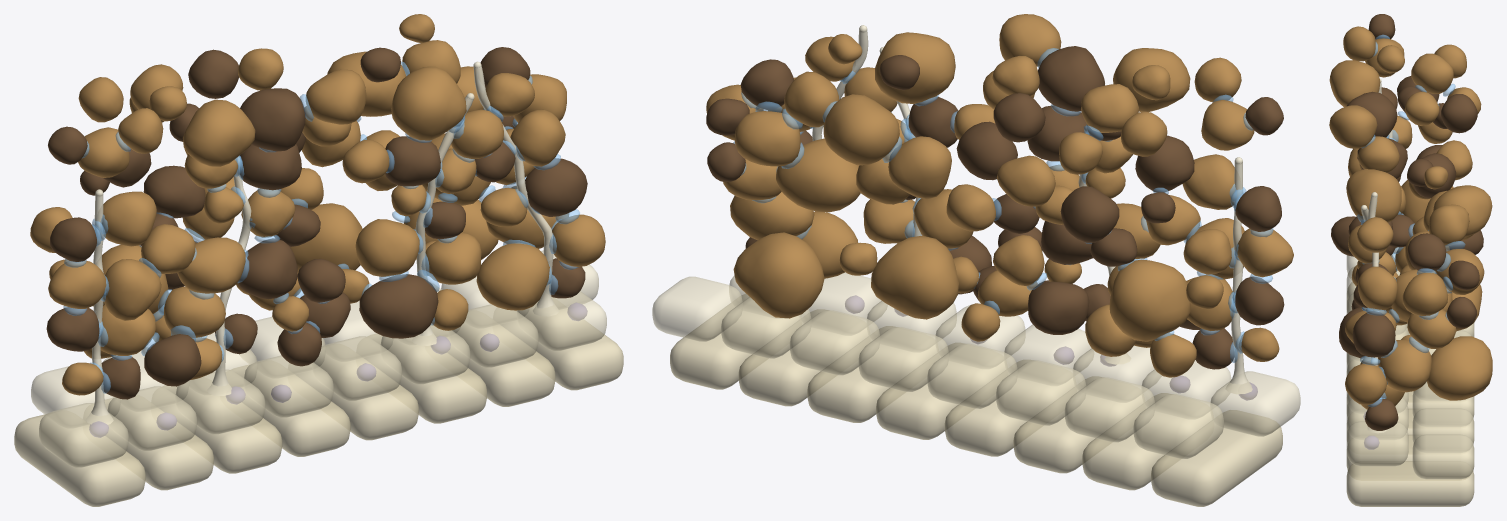
The model's file is 15_root_hairs.glb.
3 views of the same model, side by side, from view 1: azimuth 30°, elevation 25°; view 2: azimuth 150°, elevation 25°; view 3: azimuth 270°, elevation 25° (orthographic). The views are drawn at different scales.
Visible parts, largest first — view 1: RH_Soil_Particles, RH_Soil_Particles_Dark, RH_Inner_Cells, RH_Epidermal_Cells, RH_Soil_Water, RH_Root_Hairs, RH_Nuclei; view 2: RH_Soil_Particles, RH_Epidermal_Cells, RH_Inner_Cells, RH_Soil_Particles_Dark, RH_Soil_Water, RH_Root_Hairs, RH_Nuclei; view 3: RH_Soil_Particles, RH_Soil_Particles_Dark, RH_Inner_Cells, RH_Epidermal_Cells, RH_Soil_Water, RH_Root_Hairs.
Boxes of the visible parts, bbox=[...] form: RH_Soil_Particles: bbox=[30, 14, 605, 395]; RH_Soil_Particles_Dark: bbox=[46, 47, 587, 399]; RH_Inner_Cells: bbox=[14, 306, 623, 506]; RH_Epidermal_Cells: bbox=[31, 250, 606, 467]; RH_Soil_Water: bbox=[63, 61, 579, 393]; RH_Root_Hairs: bbox=[86, 61, 558, 424]; RH_Nuclei: bbox=[89, 302, 587, 437]; RH_Soil_Particles: bbox=[706, 14, 1293, 377]; RH_Epidermal_Cells: bbox=[652, 272, 1300, 458]; RH_Inner_Cells: bbox=[670, 294, 1282, 506]; RH_Soil_Particles_Dark: bbox=[706, 46, 1284, 369]; RH_Soil_Water: bbox=[733, 48, 1273, 362]; RH_Root_Hairs: bbox=[812, 25, 1252, 393]; RH_Nuclei: bbox=[845, 295, 1257, 400]; RH_Soil_Particles: bbox=[1329, 26, 1492, 409]; RH_Soil_Particles_Dark: bbox=[1331, 14, 1483, 430]; RH_Inner_Cells: bbox=[1346, 282, 1474, 506]; RH_Epidermal_Cells: bbox=[1346, 247, 1474, 479]; RH_Soil_Water: bbox=[1357, 34, 1465, 406]; RH_Root_Hairs: bbox=[1361, 78, 1392, 432].
Size of the model in its own units: 2.54 by 1.62 by 0.7935.
